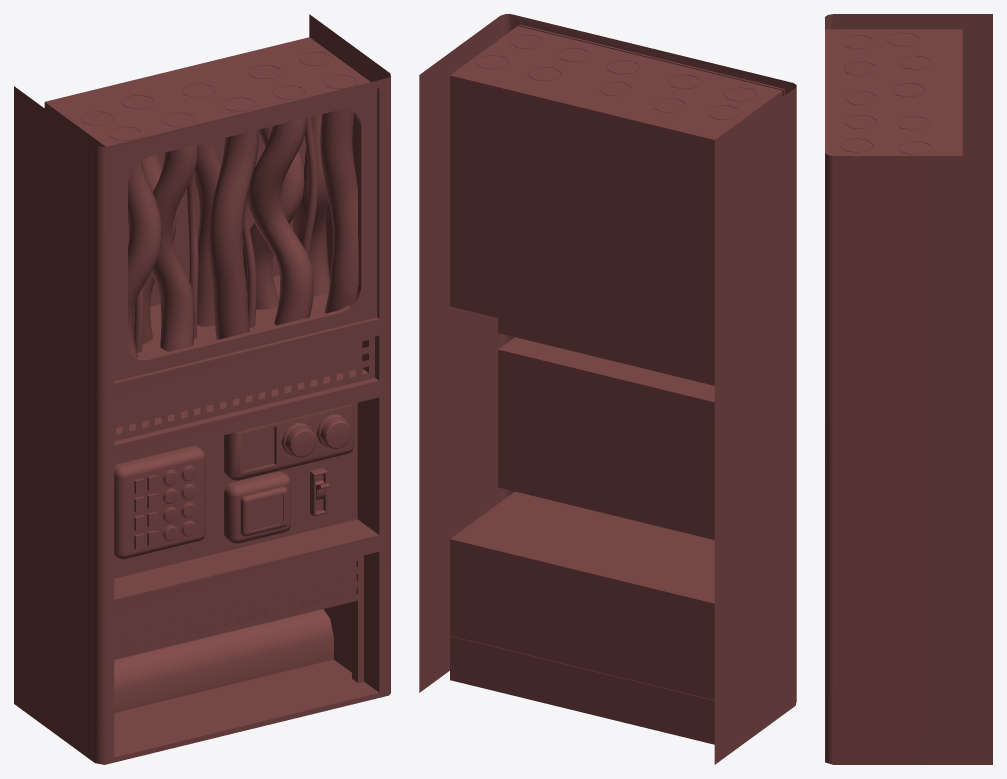
Rendered from nicerschrank.fbx.
3 views of the same model, side by side, from view 1: azimuth 30°, elevation 25°; view 2: azimuth 150°, elevation 25°; view 3: azimuth 270°, elevation 25° (orthographic).
Visible parts, largest first — view 1: nicerschrank; view 2: nicerschrank; view 3: nicerschrank.
Part boxes in pixels (<box>): nicerschrank: <box>14,14,390,764</box>; nicerschrank: <box>419,14,796,764</box>; nicerschrank: <box>825,14,992,764</box>.
Size of the model in its own units: 2 by 4 by 1.
